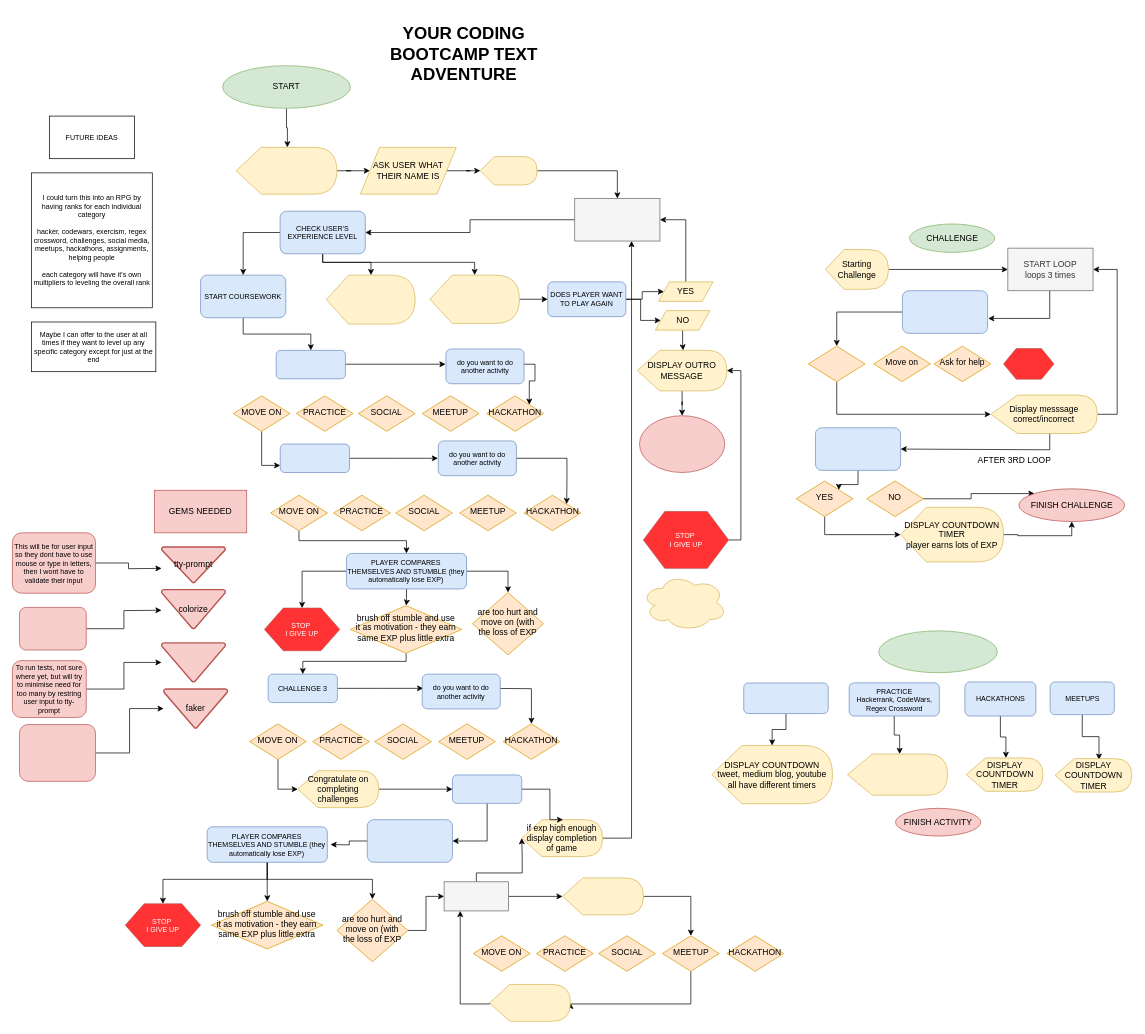
Image size: 1145x1034. Some labels were removed from this diagram. Each missing label, with the centre of its shape:
"3 potential answers" goes at point 836,363.
"Any time player choose this" goes at point 684,602.
"ASK QUESTION 3 questions per challenge" goes at point 945,311.
"CHALLENGE 1" goes at point 310,364.
"CHALLENGE 2" goes at point 314,458.
"check on their exp" goes at point 487,788.
"DISPLAY COUNTDOWN all have different timers" goes at point 897,774.
"Do you want to help a student who is stuck on the challenge" goes at point 858,448.
"EXTRA ACTIVITIES depends on what user chose" goes at point 937,651.
"FINISH GAME" goes at point 682,444.
"GAME GREETING - disclaimer and start button" goes at point 286,170.
"HI {NAME}" goes at point 508,170.
"I GIVE UP" goes at point 1028,363.
"if EXP is too low offer player extra activities" goes at point 409,840.
"show player EXP" goes at point 529,1002.
"SOCIAL MEDIA" goes at point 785,698.
"start extra activity loop" goes at point 476,896.
"START LOOP" goes at point 617,219.
"test-unit" goes at point 193,662.
"to display random names for students and educators" goes at point 57,752.
"To maybe display different hurdles / challenges in different colours?" goes at point 52,628.
"well done you have enough exp to graduate and can apply for jobs" goes at point 370,299.
"what activity do you want to do" goes at point 602,896.
"youre awesome you have enough exp to receive a job offer" goes at point 474,298.
